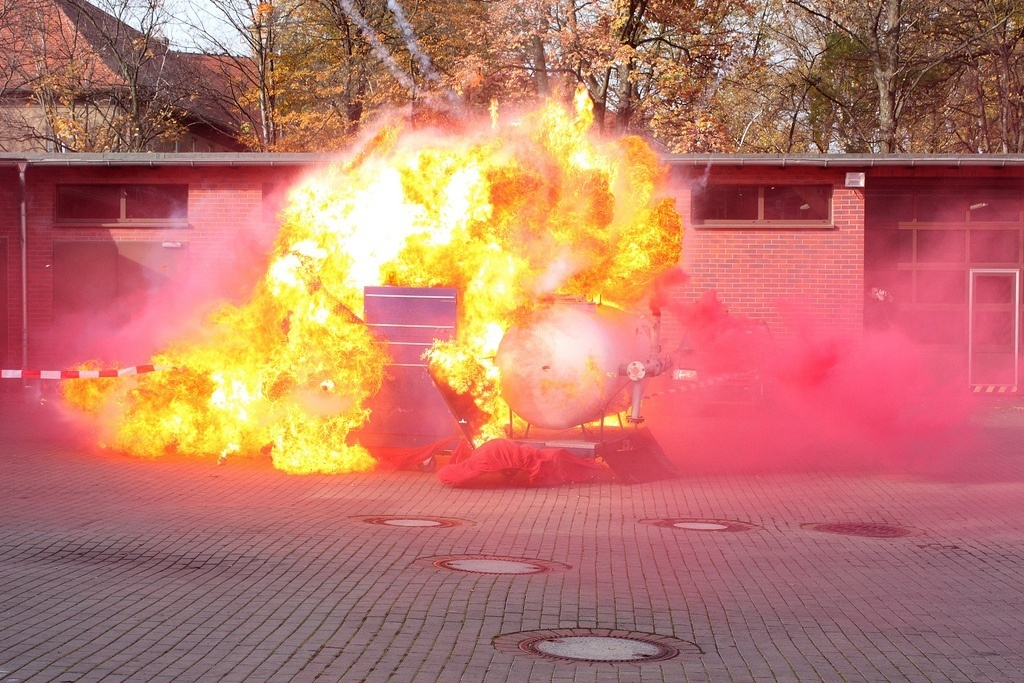fire: (67, 75, 689, 481)
